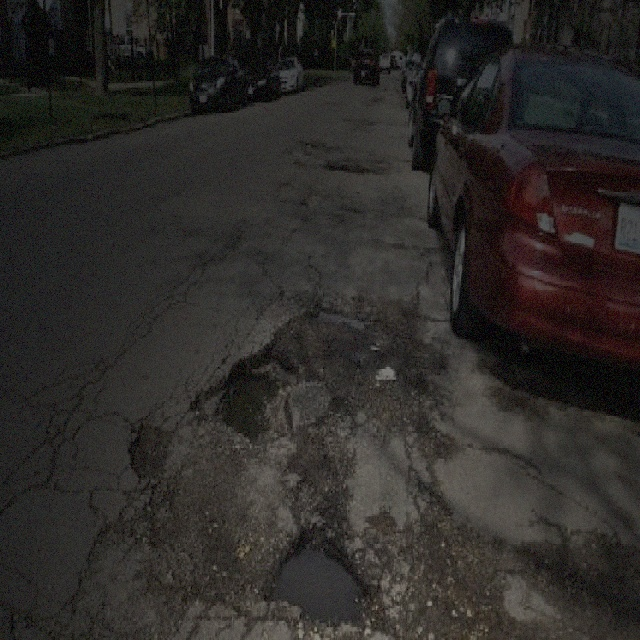pothole: (189, 339, 306, 448), (260, 527, 374, 625), (126, 420, 175, 478), (323, 156, 372, 173), (371, 361, 399, 386)
